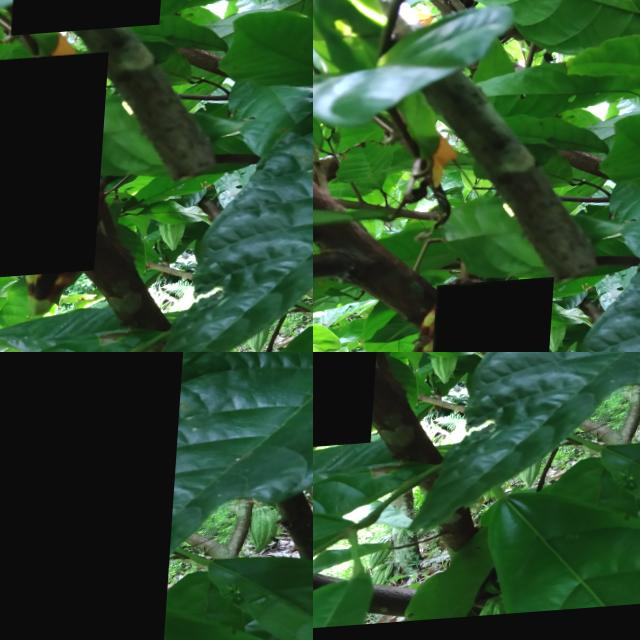Fitoftora: (0, 352, 197, 640), (431, 282, 558, 352), (313, 352, 384, 451)
Monilia: (13, 0, 167, 38)
Sana: (0, 56, 111, 282)
